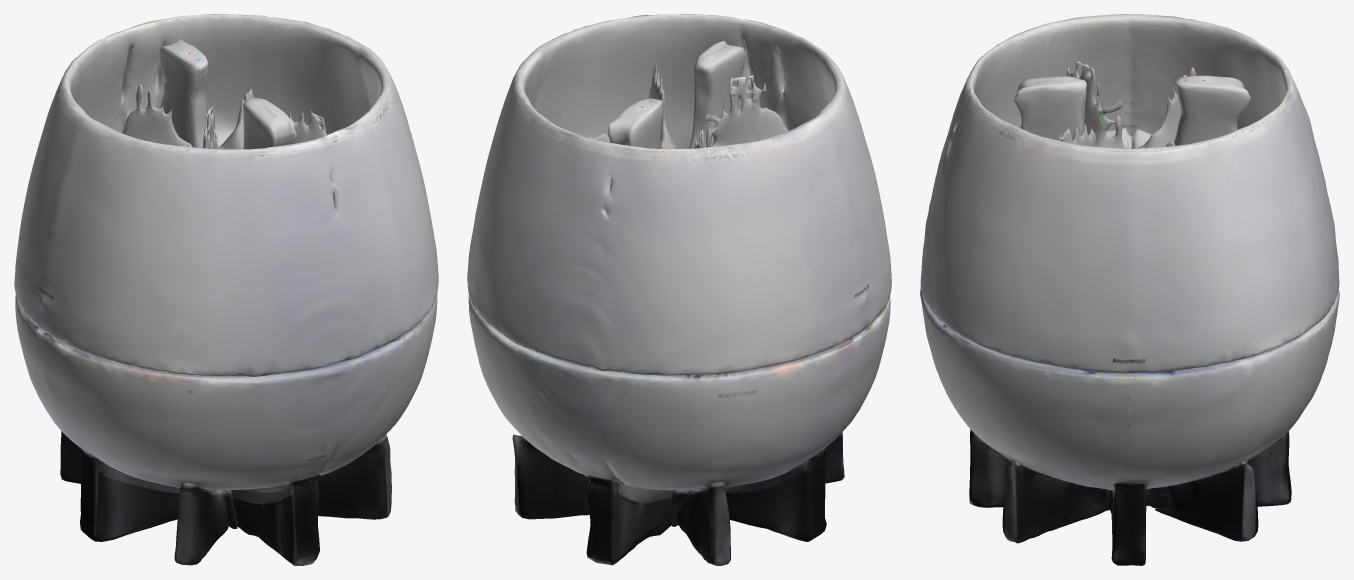
The model's file is HLH003.glb.
3 views of the same model, side by side, from view 1: azimuth 30°, elevation 25°; view 2: azimuth 150°, elevation 25°; view 3: azimuth 270°, elevation 25° (orthographic).
Visible parts, largest first — view 1: tripo_node_32edf885-0c32-40b1-b0f6-4bae319b311f; view 2: tripo_node_32edf885-0c32-40b1-b0f6-4bae319b311f; view 3: tripo_node_32edf885-0c32-40b1-b0f6-4bae319b311f.
Part boxes in pixels (x1,y1,x2,y2): tripo_node_32edf885-0c32-40b1-b0f6-4bae319b311f: (14,14,438,565); tripo_node_32edf885-0c32-40b1-b0f6-4bae319b311f: (467,14,891,565); tripo_node_32edf885-0c32-40b1-b0f6-4bae319b311f: (920,14,1339,565).
Size of the model in its own units: 0.6031 by 0.6853 by 0.5997.
1 material, 1 textured.
